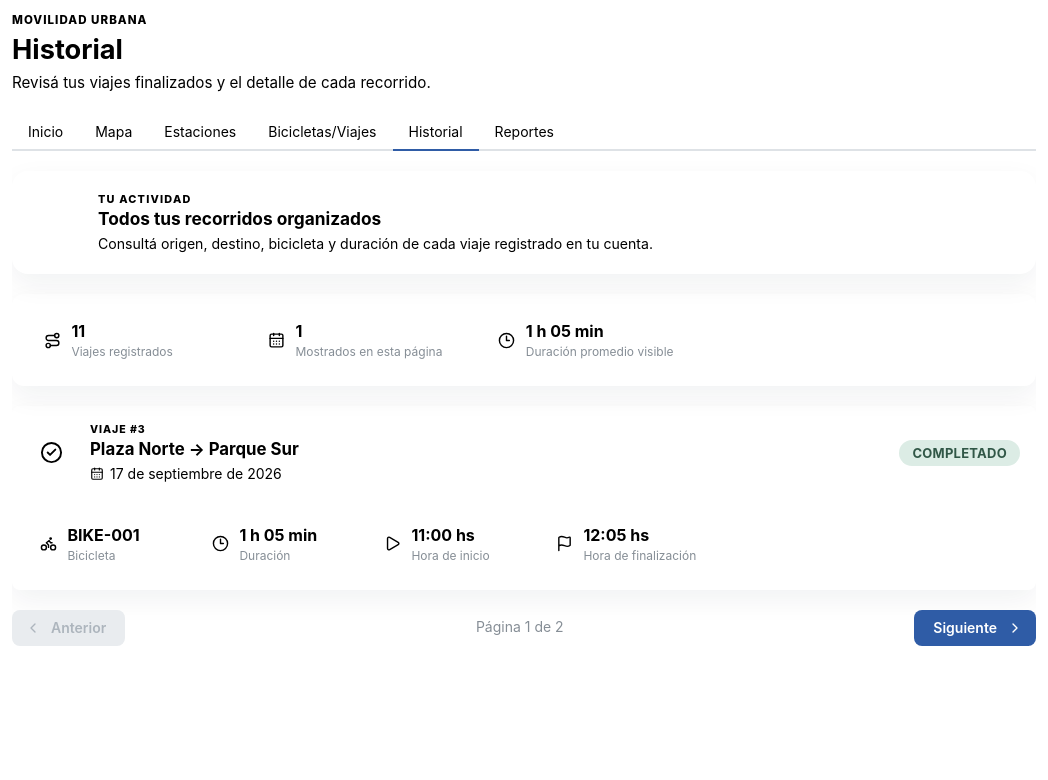
Scenario: HistoryPage › cambia de página usando la metadata real
Click the button "Siguiente". click: click(975, 628)
box: [914,610,1036,646]
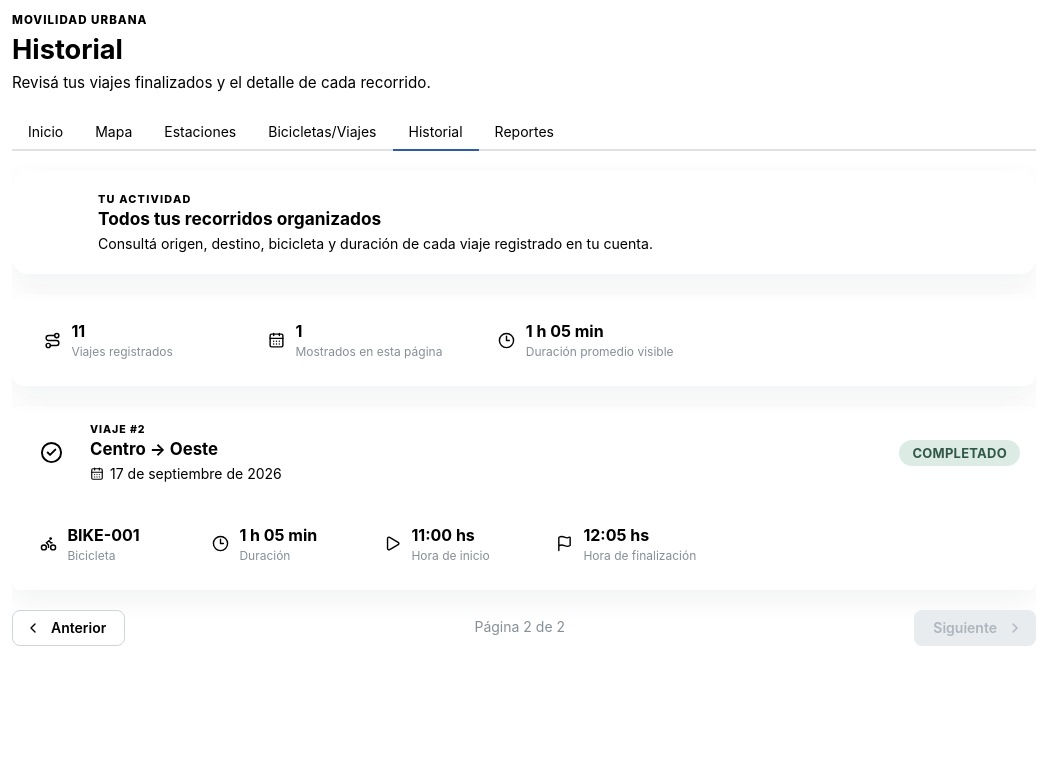
Expected: the heading "Centro → Oeste" is shown, [90,439,218,459]
Expected: the button "Siguiente" is disabled, [914,610,1036,646]
